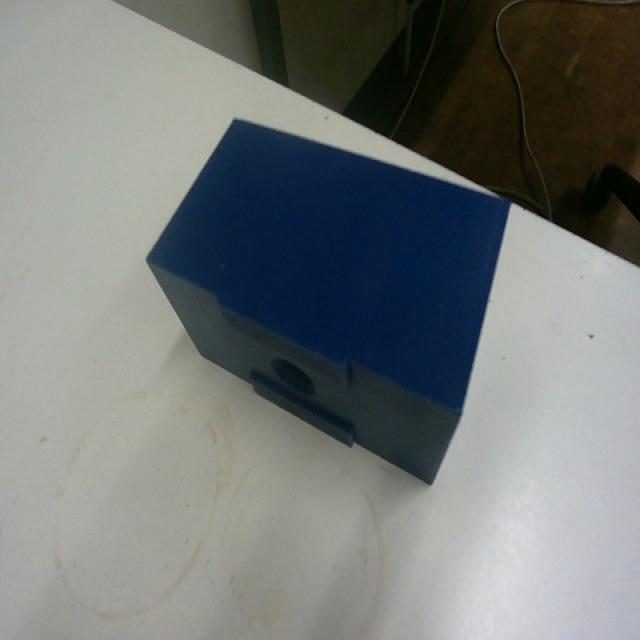Blue Cuboid: (144, 113, 513, 487)
